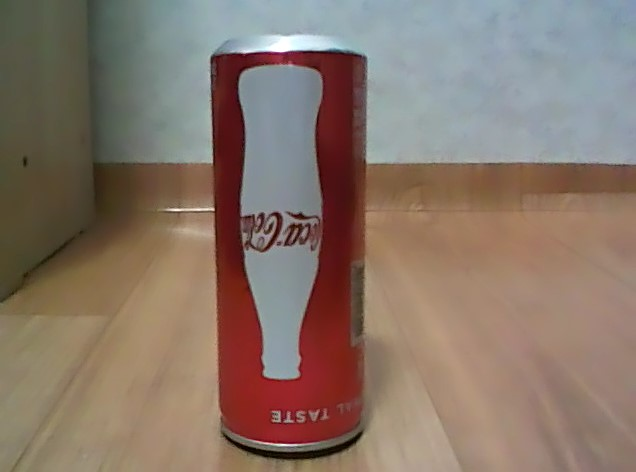Can: (206, 30, 371, 461)
